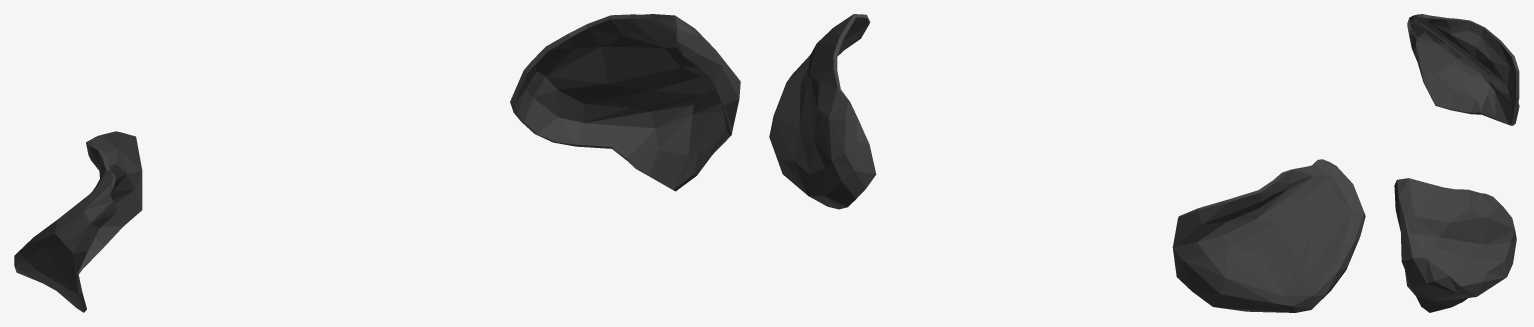
File: c2_caudal_articular_process.glb
3 views of the same model, side by side, from view 1: azimuth 30°, elevation 25°; view 2: azimuth 150°, elevation 25°; view 3: azimuth 270°, elevation 25° (orthographic). The views are drawn at different scales.
Parts seen in each view (by area): view 1: c2_caudal_articular_process; view 2: c2_caudal_articular_process; view 3: c2_caudal_articular_process.
Part boxes in pixels (box(x1,y1,x2,y2)): c2_caudal_articular_process: box(14, 14, 740, 312); c2_caudal_articular_process: box(769, 14, 1365, 312); c2_caudal_articular_process: box(1394, 14, 1519, 312).
Bounding box in the file's own units: 35.37 × 9.43 × 8.25.
1 material, 1 textured.
